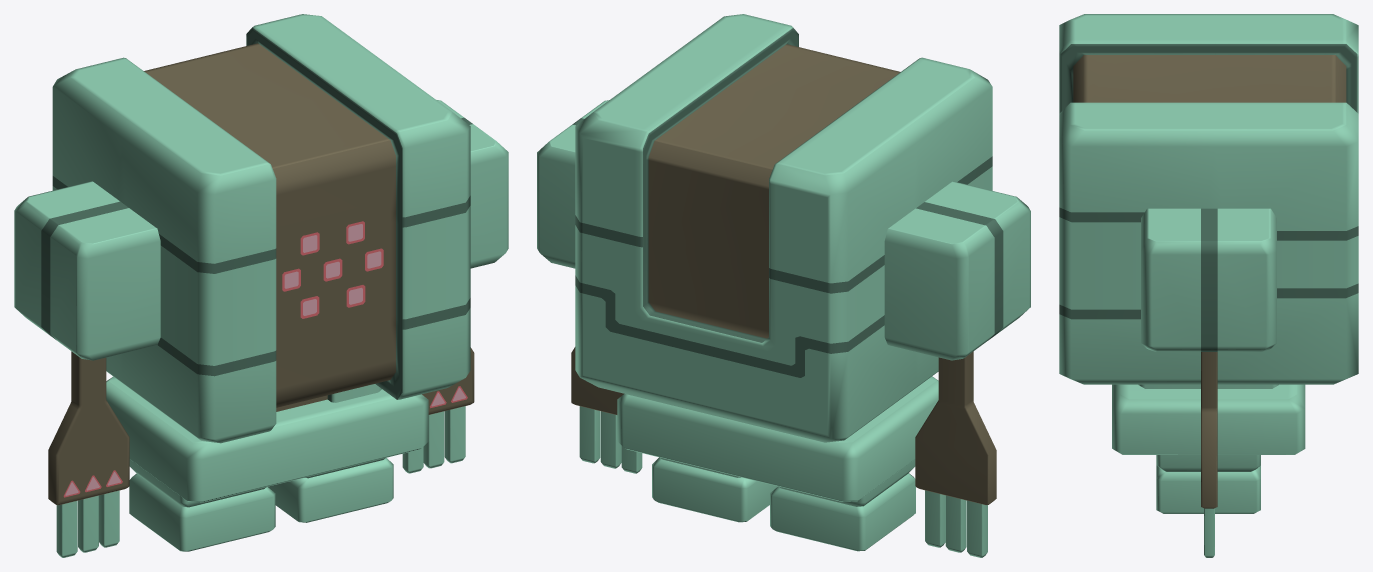
3 views of the same model, side by side, from view 1: azimuth 30°, elevation 25°; view 2: azimuth 150°, elevation 25°; view 3: azimuth 270°, elevation 25° (orthographic). The views are drawn at different scales.
Parts seen in each view (by area): view 1: model; view 2: model; view 3: model.
Boxes of the visible parts, bbox=[...] form: model: bbox=[14, 14, 508, 557]; model: bbox=[537, 14, 1030, 557]; model: bbox=[1059, 14, 1358, 557].
Size of the model in its own units: 3.37 by 3.09 by 2.13.
